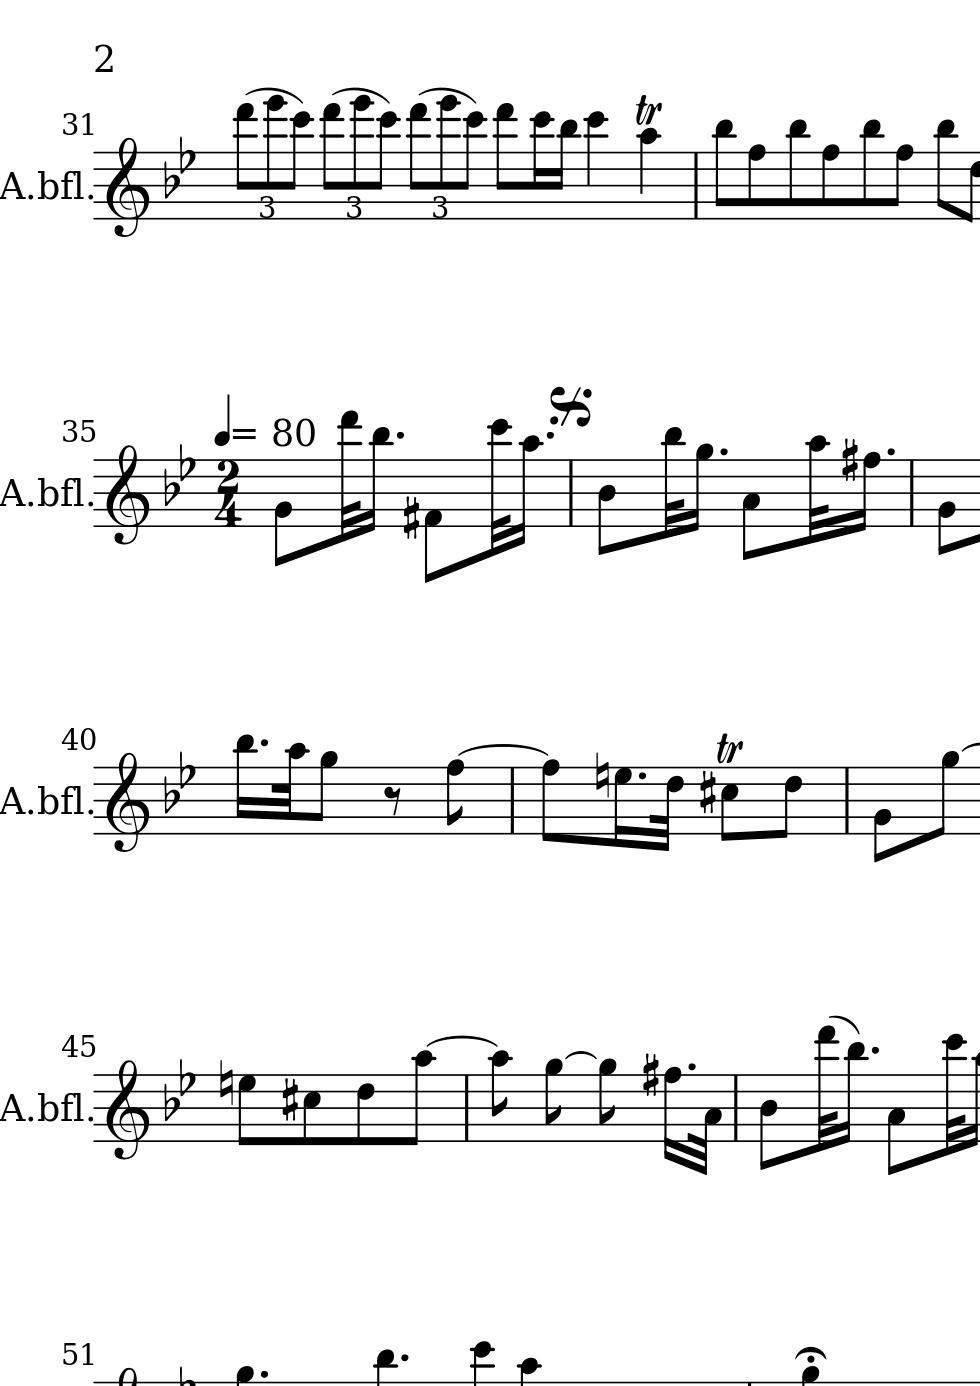0: (294, 416, 316, 450), (78, 725, 99, 755)
1: (80, 110, 95, 139), (80, 1340, 95, 1369)
16_10: (510, 433, 543, 546)
16_11: (364, 424, 392, 536), (839, 1041, 867, 1147), (553, 118, 578, 221), (233, 733, 256, 836)
16_12: (530, 109, 553, 222)
16_7: (612, 765, 633, 849)
16_8: (852, 451, 881, 536), (662, 1066, 684, 1162)
16_9: (686, 442, 714, 533)
2: (212, 456, 242, 494), (92, 42, 116, 73)
3: (60, 417, 78, 445), (430, 194, 449, 221), (257, 195, 276, 221), (344, 195, 363, 221), (62, 110, 78, 138)
32_10: (273, 741, 308, 835), (804, 433, 830, 545)
32_11: (661, 425, 684, 539)
32_12: (941, 1032, 968, 1154), (489, 418, 512, 560)
32_13: (338, 409, 360, 542), (815, 1025, 837, 1152)
32_3: (694, 1073, 723, 1177)
32_6: (651, 764, 683, 853)
4: (211, 492, 245, 527), (60, 1032, 78, 1062), (62, 725, 78, 752)
4_10: (635, 126, 661, 222)
4_12: (583, 112, 609, 223)
5: (78, 416, 97, 445), (78, 1031, 97, 1060), (62, 1339, 78, 1368)
8: (272, 416, 293, 450)
8_1: (421, 456, 442, 583)
8_10: (401, 1050, 434, 1148), (488, 1050, 513, 1144)
8_11: (859, 117, 883, 222), (933, 117, 958, 222), (786, 117, 809, 222), (712, 117, 735, 221)
8_12: (285, 104, 312, 221), (373, 106, 399, 223), (460, 107, 486, 222)
8_13: (492, 103, 517, 220), (232, 102, 256, 222), (407, 101, 430, 222), (320, 101, 342, 222)
8_14: (436, 95, 460, 220), (263, 93, 285, 224), (350, 93, 372, 223)
8_2: (272, 458, 293, 568), (871, 764, 893, 863), (935, 457, 957, 557)
8_3: (883, 1072, 906, 1177), (740, 458, 762, 563)
8_4: (595, 458, 617, 557), (757, 1073, 778, 1173)
8_5: (718, 765, 740, 843), (301, 1072, 322, 1148)
8_6: (774, 765, 803, 841), (354, 1073, 375, 1148)
8_7: (237, 1073, 258, 1148)
8_8: (887, 143, 914, 221), (540, 758, 563, 843), (745, 143, 766, 222), (819, 143, 840, 222), (443, 759, 463, 836)
8_9: (929, 749, 961, 839), (309, 750, 339, 836), (596, 1058, 618, 1146), (542, 1059, 564, 1145)
B_F: (161, 442, 197, 507), (161, 135, 196, 199), (162, 1058, 197, 1121), (162, 751, 196, 813)
Fermata_above: (793, 1345, 829, 1365)
Gclef: (104, 134, 151, 240), (104, 750, 151, 854), (104, 442, 150, 546), (105, 1058, 150, 1160)
Natural: (216, 1057, 234, 1108), (593, 750, 610, 801)
Rests8: (381, 784, 404, 818)
Segno: (542, 383, 598, 432)
Sharp: (400, 494, 420, 542), (697, 768, 717, 815), (640, 1052, 660, 1098), (280, 1076, 299, 1124), (839, 437, 858, 484)
Single_barline: (687, 153, 705, 220), (838, 767, 855, 834), (563, 460, 579, 526), (504, 768, 520, 834), (728, 1075, 743, 1141), (904, 460, 918, 526), (459, 1076, 474, 1141)
Slur: (418, 85, 477, 105), (332, 86, 391, 105), (457, 744, 550, 756), (245, 86, 304, 104), (424, 1035, 498, 1047), (827, 1015, 861, 1037), (564, 1050, 597, 1062)
Speed4: (213, 394, 257, 448)
Speed_4=80: (211, 392, 313, 450)
TimeSig: (214, 456, 242, 527)
Trill: (631, 94, 663, 127), (714, 731, 742, 766)
dot: (397, 1351, 412, 1365), (868, 1043, 881, 1057), (257, 1368, 270, 1382), (393, 429, 406, 443), (257, 736, 270, 749), (635, 769, 648, 783), (543, 429, 556, 442), (717, 446, 729, 459), (883, 446, 896, 458), (684, 1062, 697, 1073)
